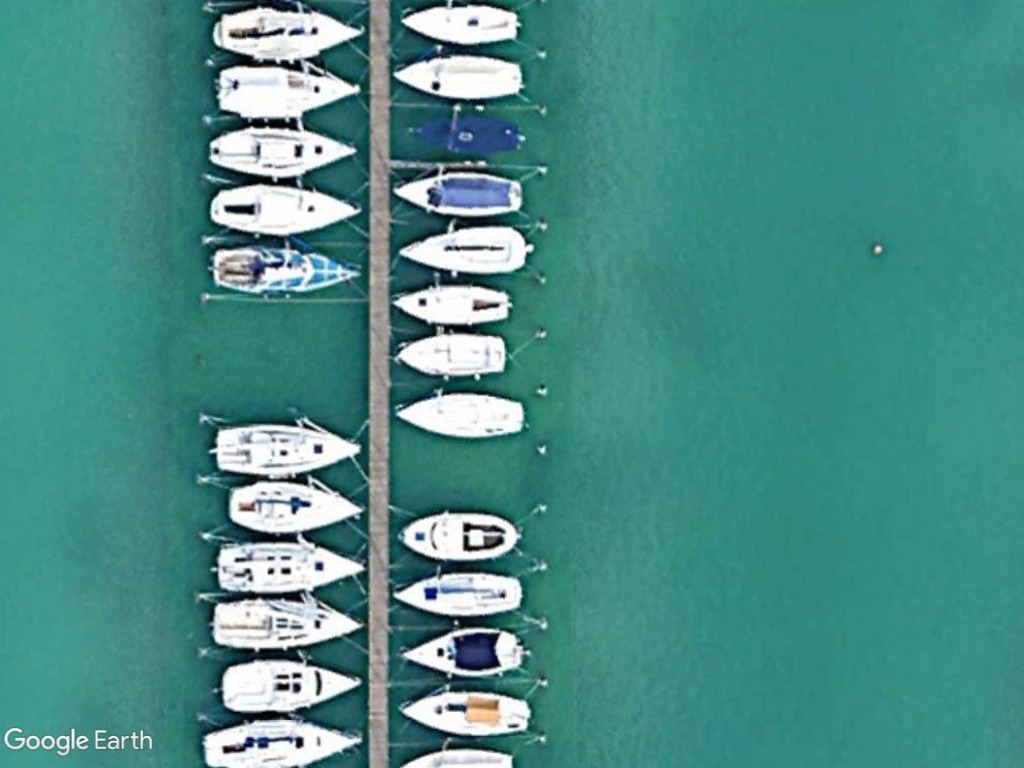boat: (209, 417, 367, 480), (206, 594, 366, 655), (202, 121, 359, 183), (214, 536, 368, 598), (211, 64, 365, 125), (193, 714, 366, 768), (217, 657, 365, 719), (208, 5, 363, 64), (207, 240, 362, 299), (205, 183, 362, 238), (392, 504, 523, 567), (224, 480, 366, 538), (395, 685, 535, 742), (388, 166, 528, 221), (393, 223, 534, 276), (395, 624, 528, 680), (387, 568, 526, 621), (389, 389, 527, 442), (387, 50, 525, 101), (387, 328, 508, 382), (387, 278, 512, 328), (394, 1, 524, 48), (403, 111, 529, 158)
